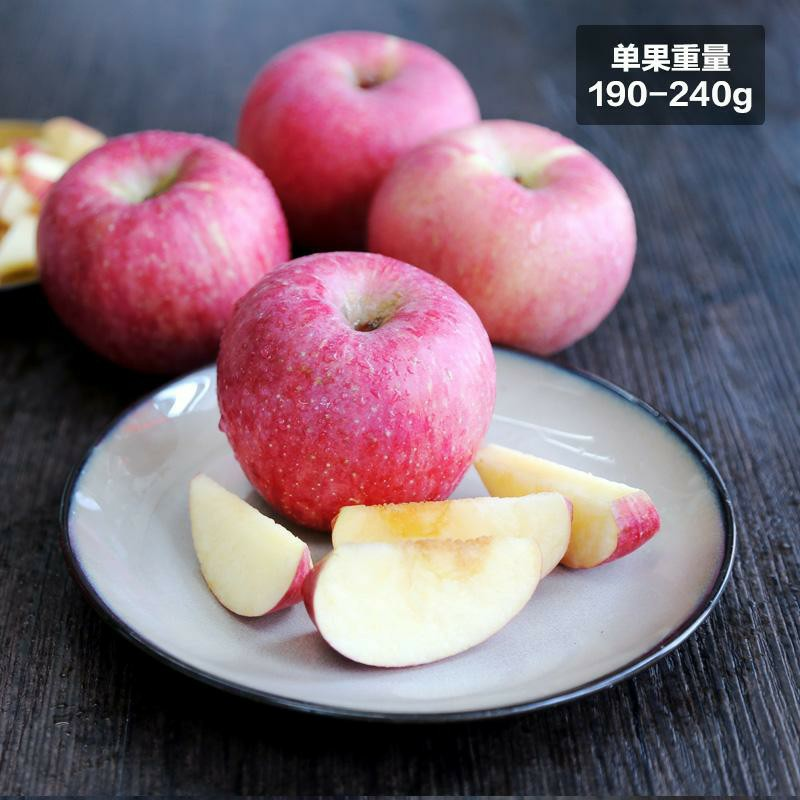fresh_apple: (251, 34, 639, 352), (225, 256, 497, 526), (56, 129, 285, 365)
